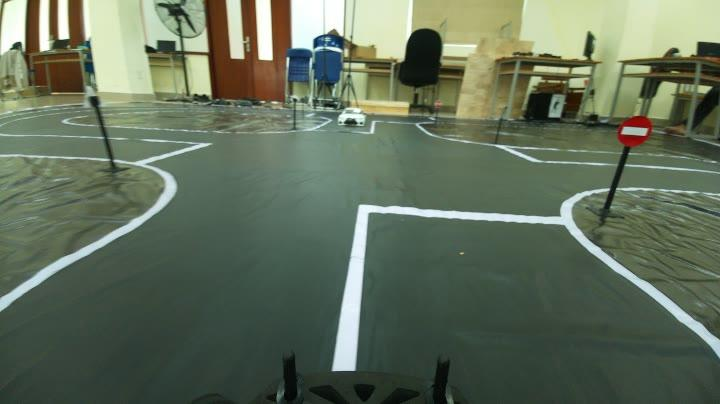car: (336, 104, 369, 129)
no_entry: (616, 109, 654, 153)
